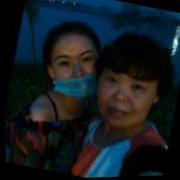NONE: (92, 64, 158, 133)
WRONG: (45, 37, 107, 104)
